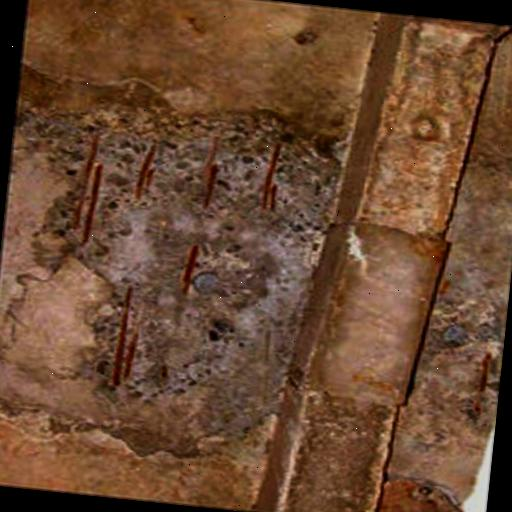spalling: (24, 107, 334, 457)
